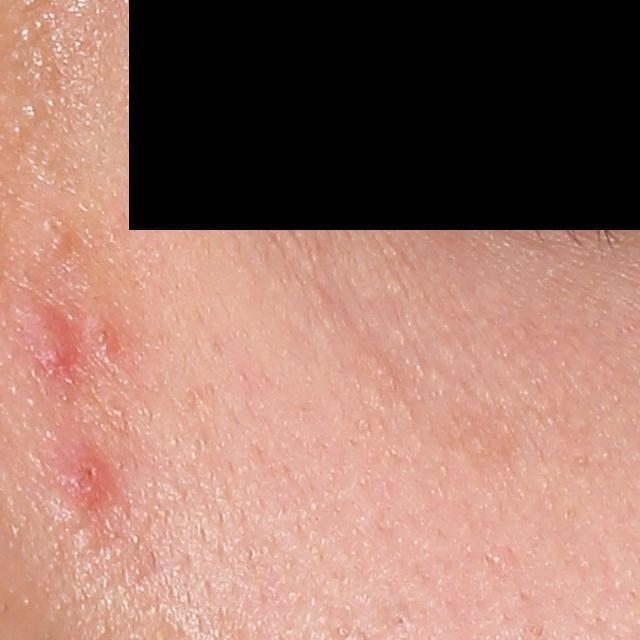comedo: (390, 611, 411, 632)
papule: (20, 302, 68, 377)
